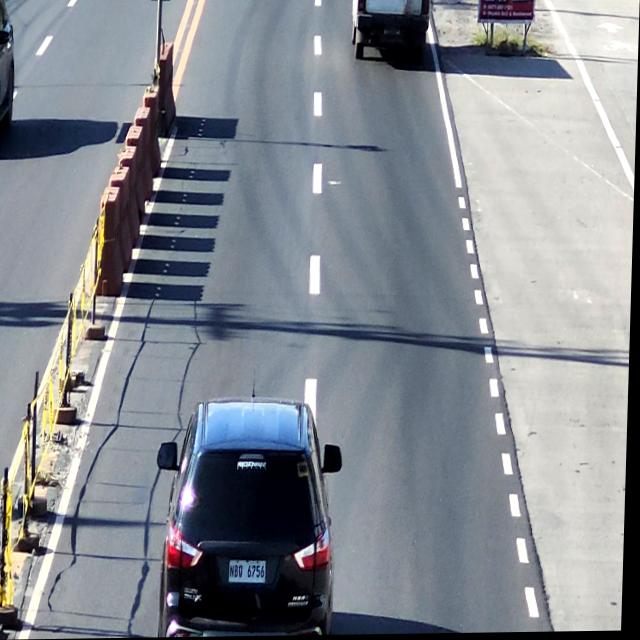Car: (165, 400, 343, 638), (353, 0, 432, 61)
License-Plate: (230, 556, 273, 592)
